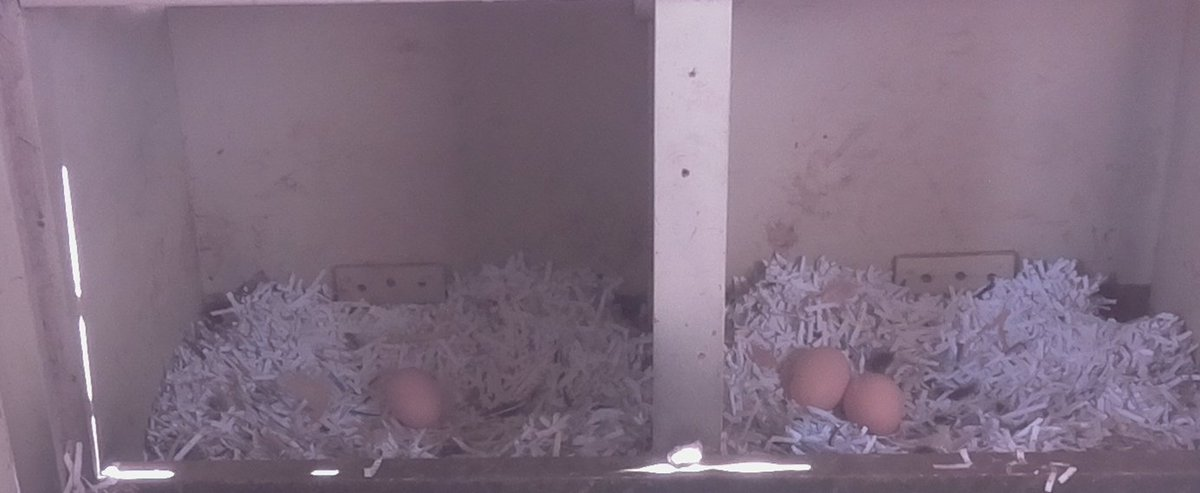egg: (841, 368, 914, 442), (381, 363, 453, 436), (789, 342, 855, 416)
